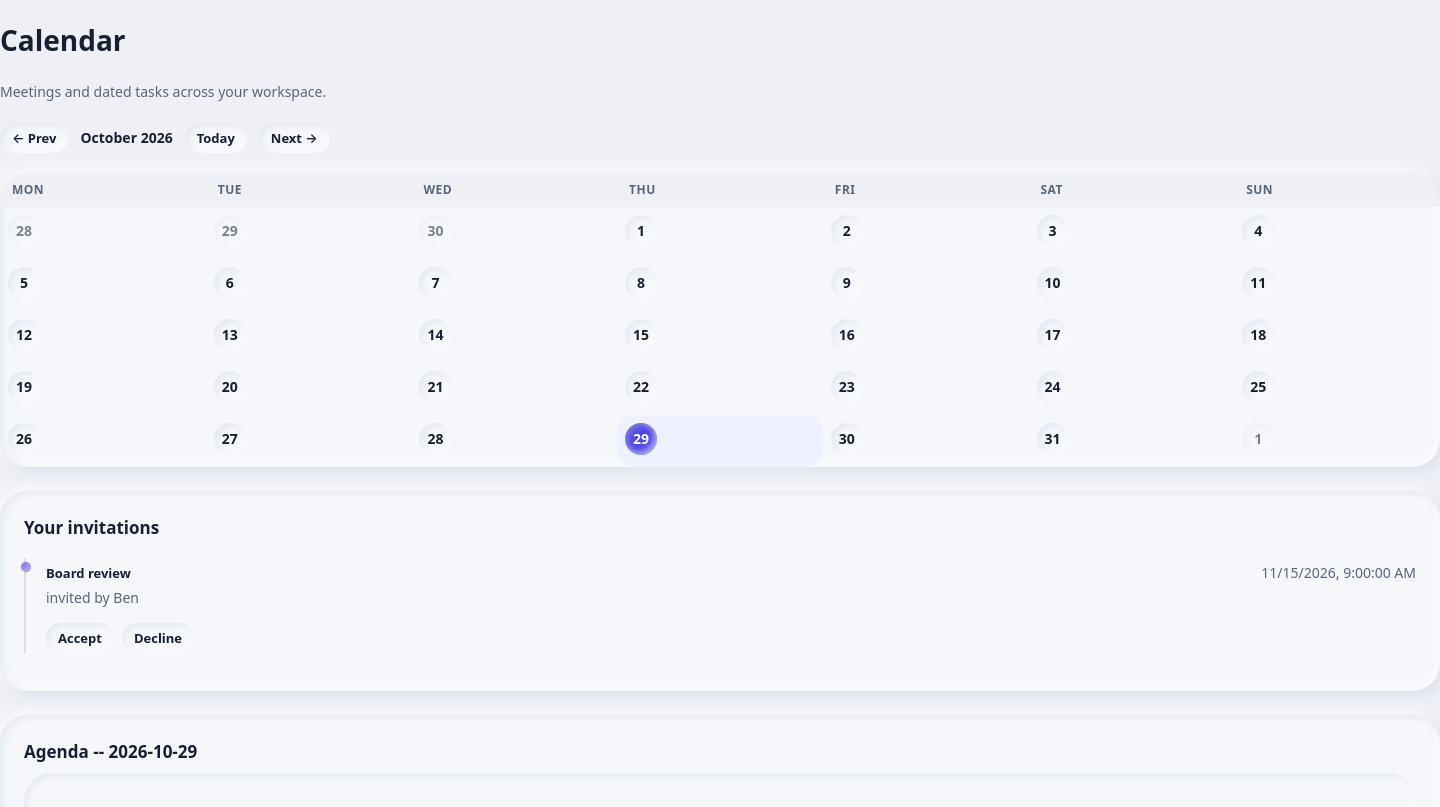
Test: Calendar page › clicking a calendar chip opens the shared event window
Check: the column heading "Mon" is shown, box [0,173,206,207]
What coordinates should you click on to do the following:
click the button with aria-label "Next month"
I would click on:
 (294, 138)
Its box is [259,123,330,153].
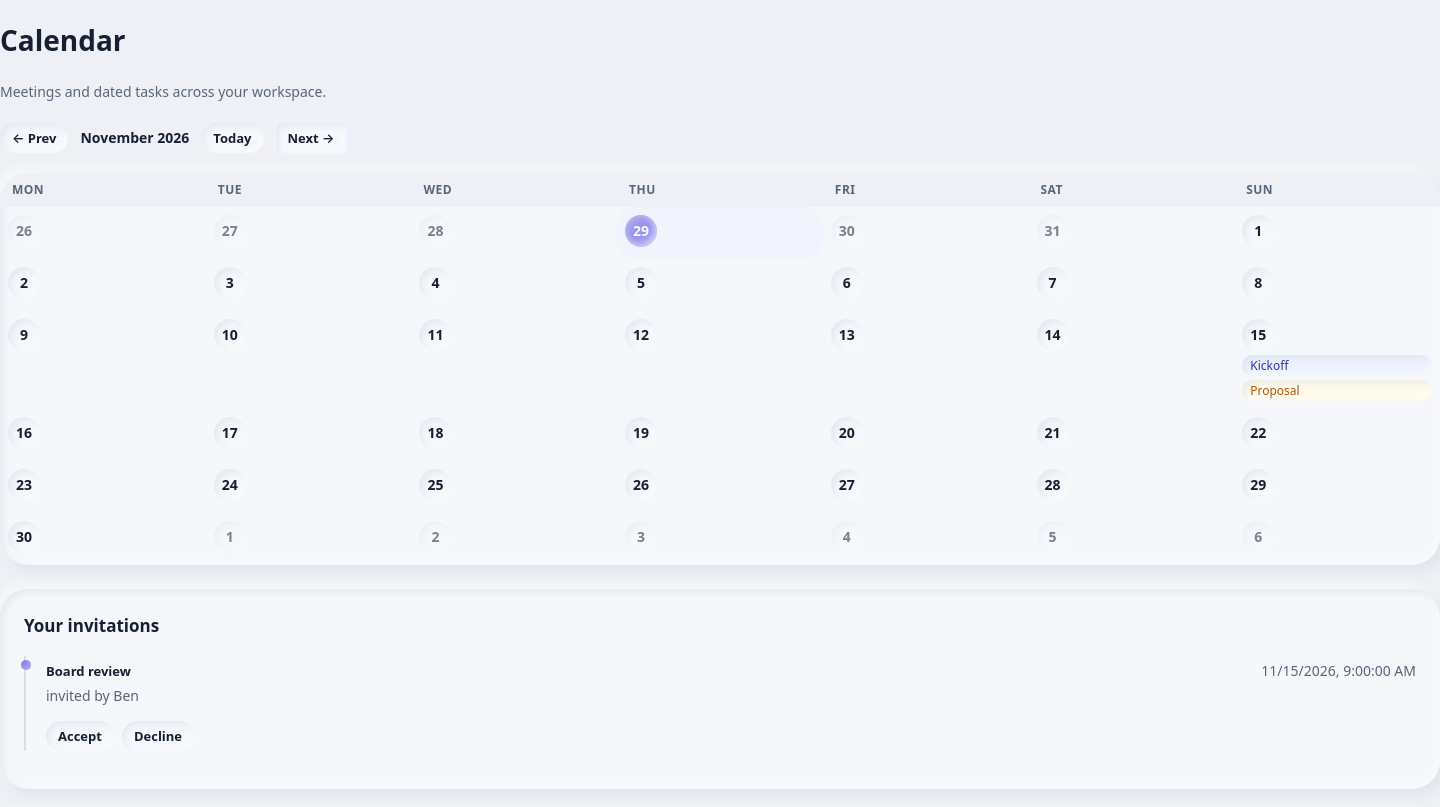
Note: A meeting chip opens the meeting view of the window.
What coordinates should you click on to do the following:
click the button titled "Kickoff"
I would click on:
 (1337, 366)
Its box is [1242,355,1432,376].
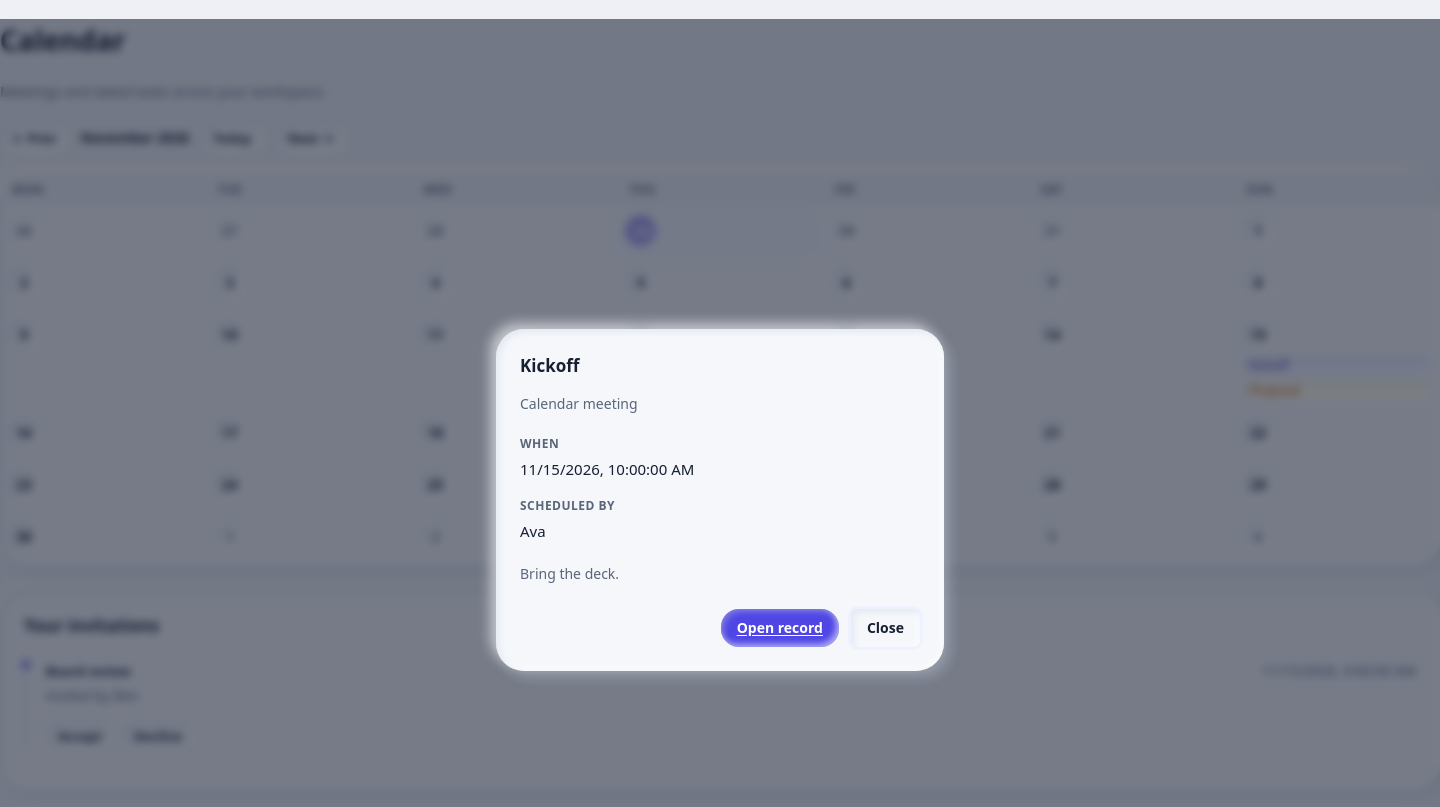
Check: the text "Calendar meeting" is shown, box [520,394,638,414]
Check: the text "Bring the deck." is shown, box [520,564,619,583]
Note: Close it and open the task chip: the same window, task-shaped.
What coordinates should you click on to do the following:
click the button "Close"
I would click on:
 (885, 628)
Its box is [851,608,920,646].
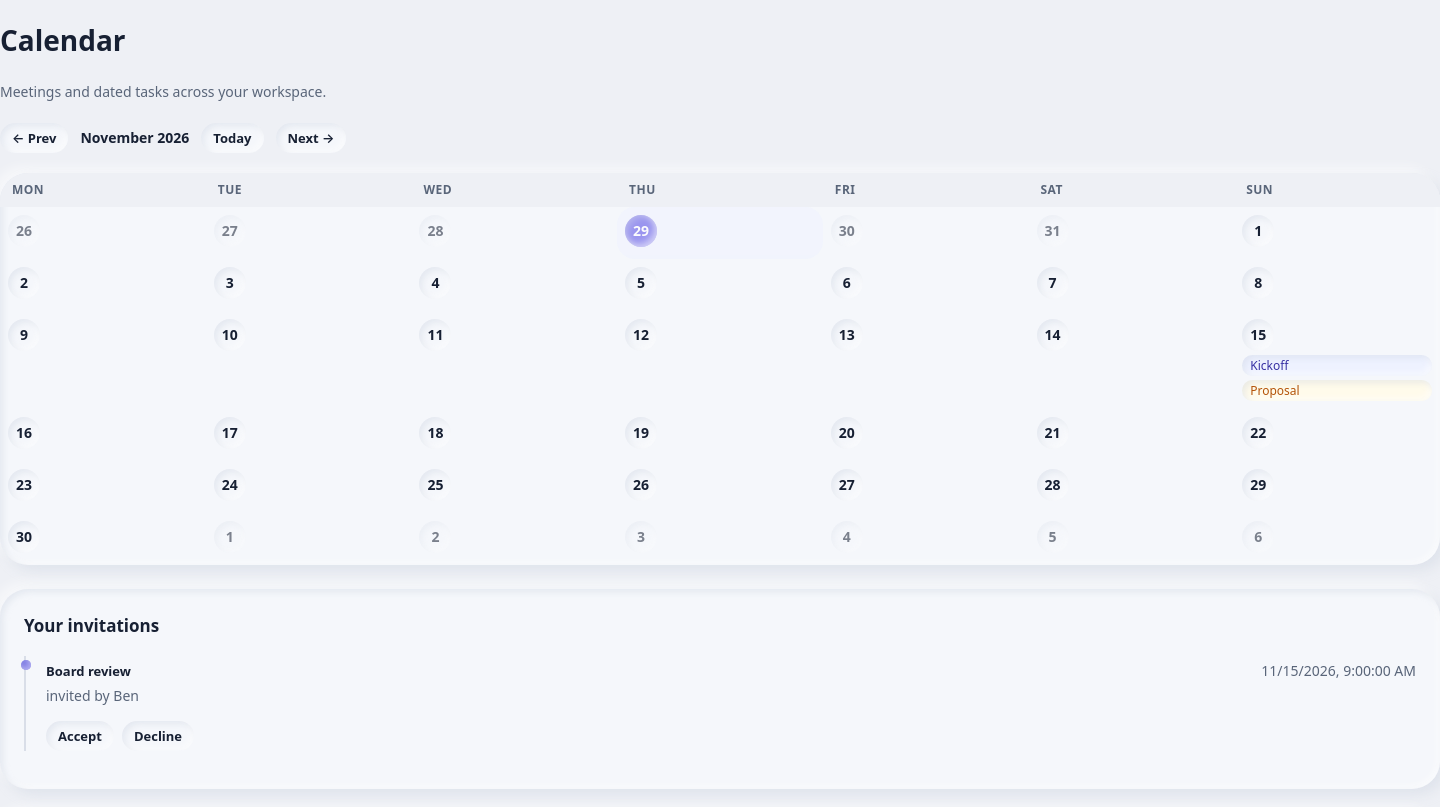
What coordinates should you click on to do the following:
click the button titled "Proposal"
I would click on:
 (1337, 391)
Its box is [1242,380,1432,401].
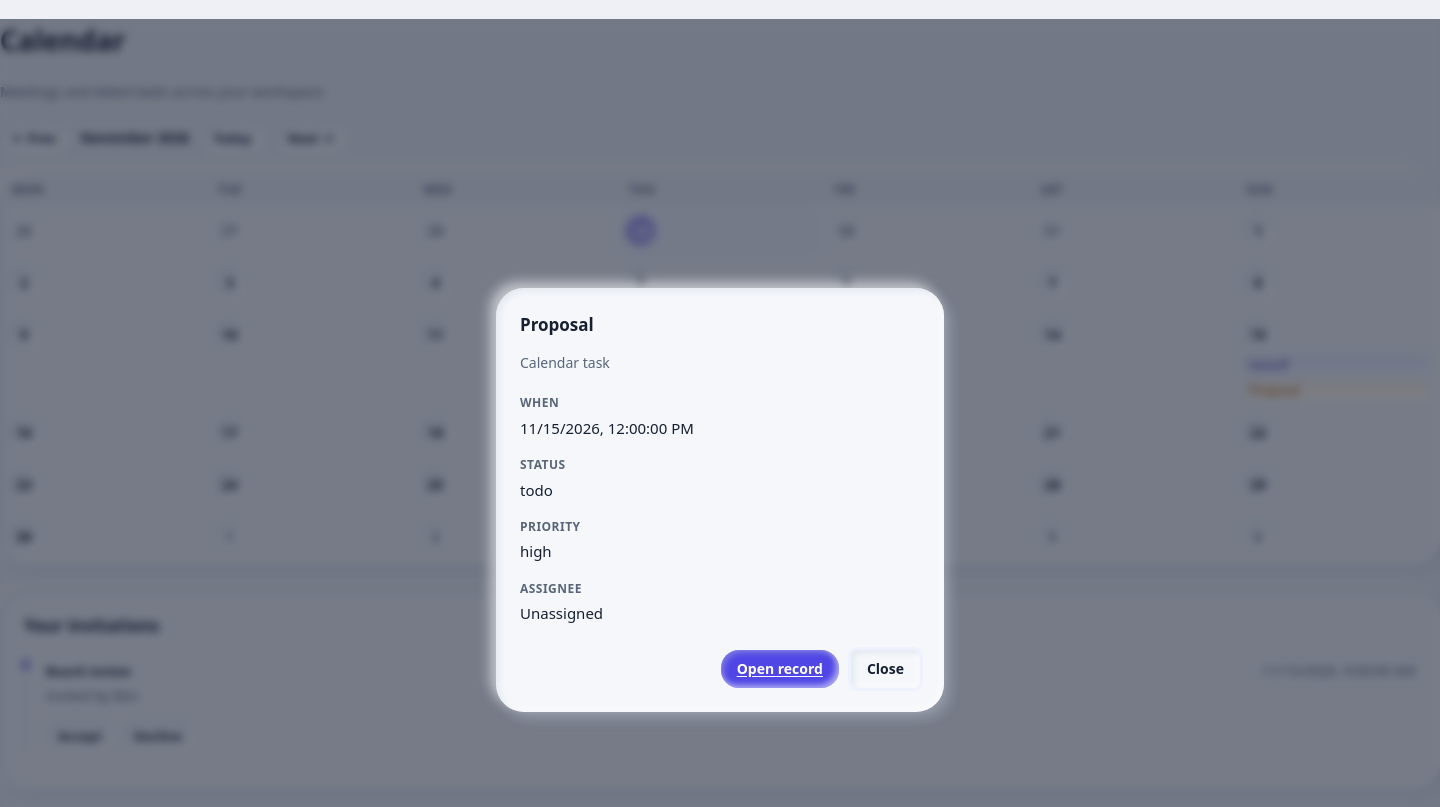
Check: the text "Calendar task" is shown, box [520,354,610,372]
Check: the text "todo" is shown, box [520,480,553,500]
